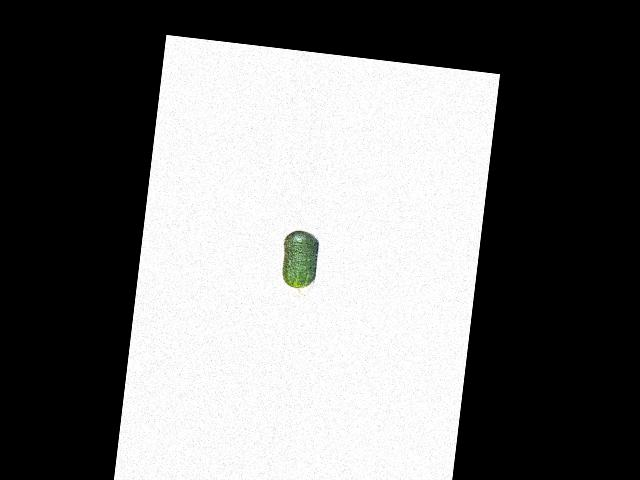cucumber: (278, 229, 320, 296)
